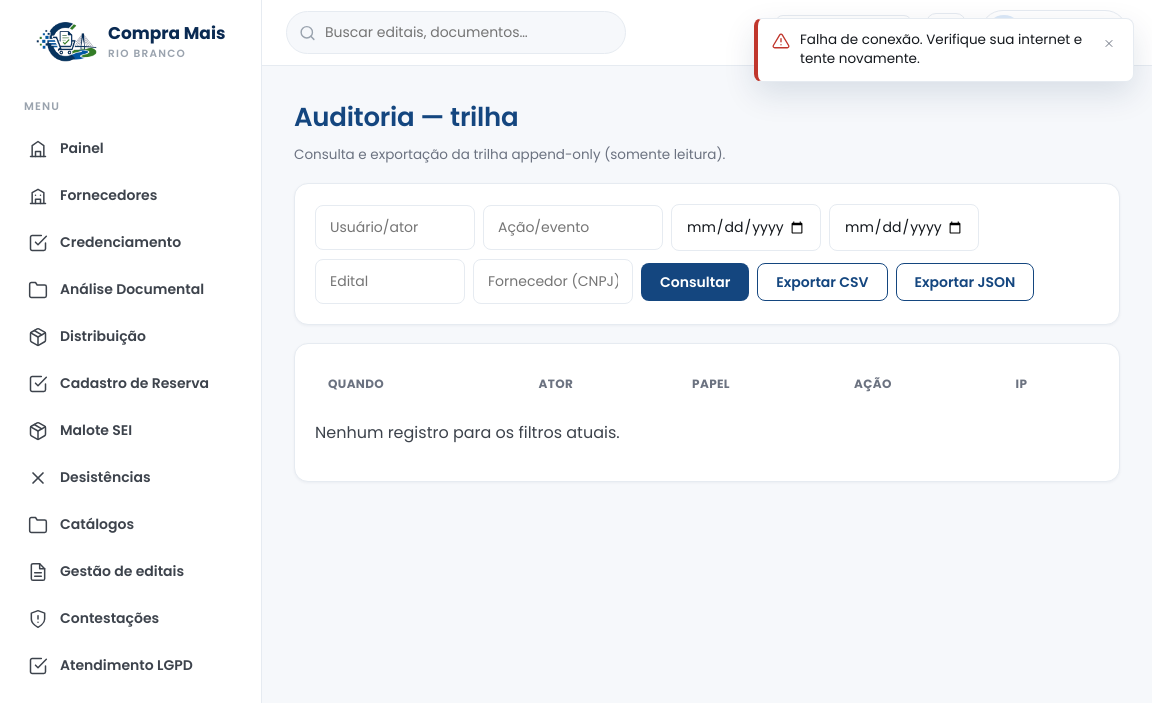
Test case: Auditoria — consulta e exportação › mostra erro de intervalo inválido (400)
Step 1. Type "2026-05-01" into the date field with test id "de" → x=746, y=228, box [671,204,821,251]
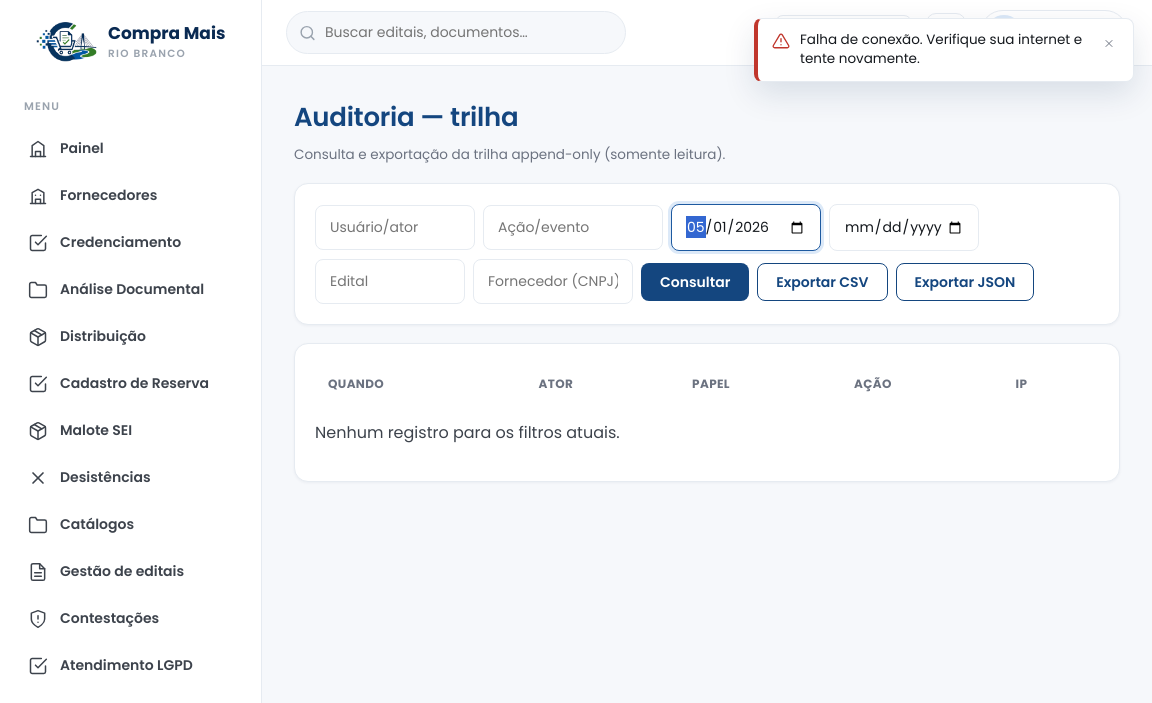
Step 2. Type "2026-01-01" into the date field with test id "ate" → x=904, y=228, box [829,204,979,251]
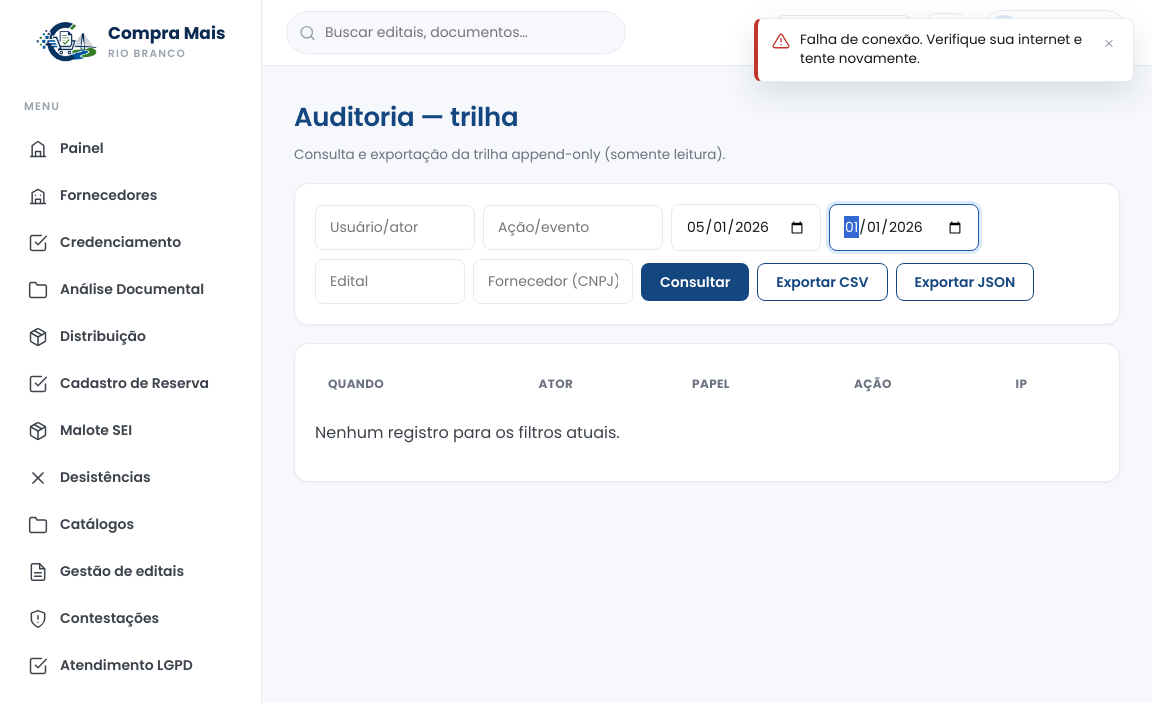
Step 3. Click the button with test id "consultar" → x=695, y=282, box [641,263,749,301]
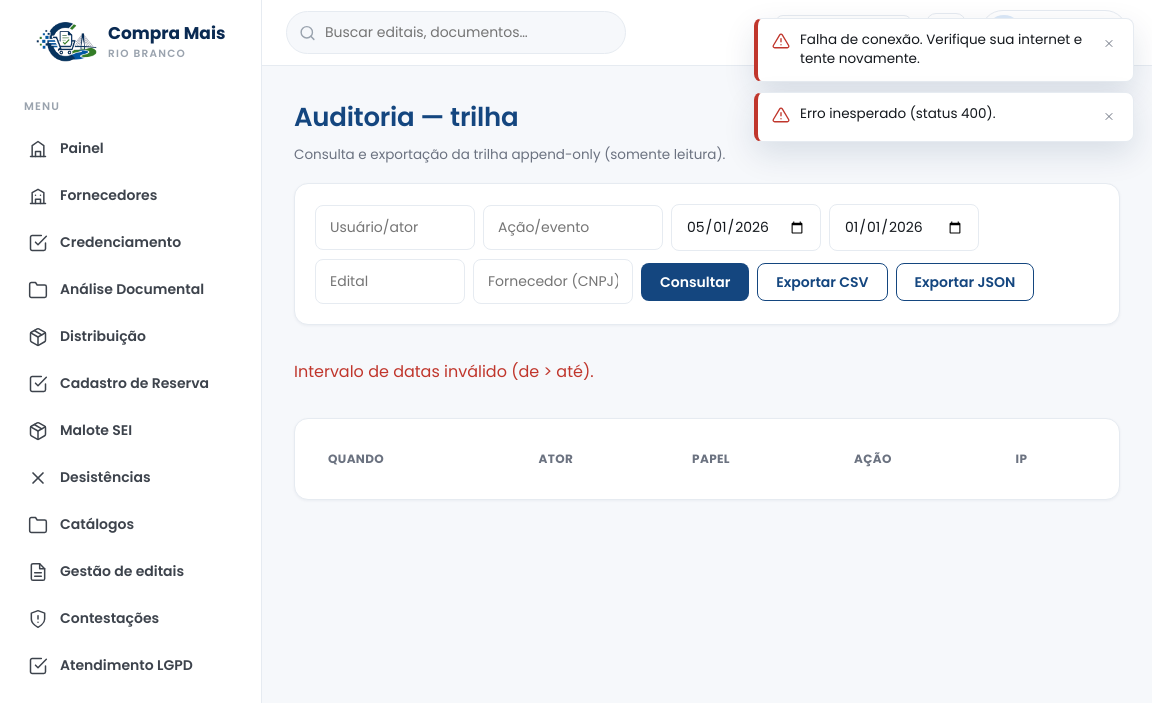
expect the message "Intervalo de datas inválido (de > até)." is shown: met, box [294,360,594,383]
